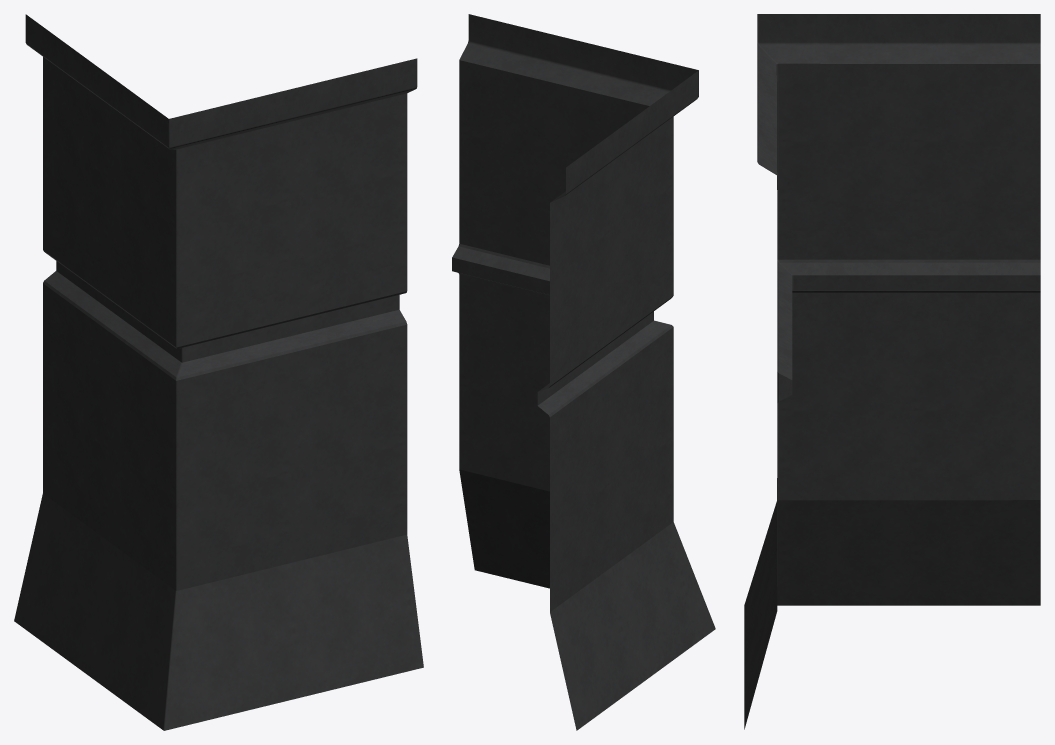
Rendered from M_Wall_Convex_Corner_4x10_v2.fbx.
3 renders of one model, left to right at view 1: azimuth 30°, elevation 25°; view 2: azimuth 150°, elevation 25°; view 3: azimuth 270°, elevation 25°, orthographic. The views are drawn at different scales.
Parts seen in each view (by area): view 1: Wall_Corner_Convex_4x10_v2; view 2: Wall_Corner_Convex_4x10_v2; view 3: Wall_Corner_Convex_4x10_v2.
Part boxes in pixels (x1,y1,x2,y2): Wall_Corner_Convex_4x10_v2: (14,14,423,730); Wall_Corner_Convex_4x10_v2: (452,14,715,730); Wall_Corner_Convex_4x10_v2: (744,14,1040,729).
Bounding box in the file's own units: 450 × 1000 × 450.
